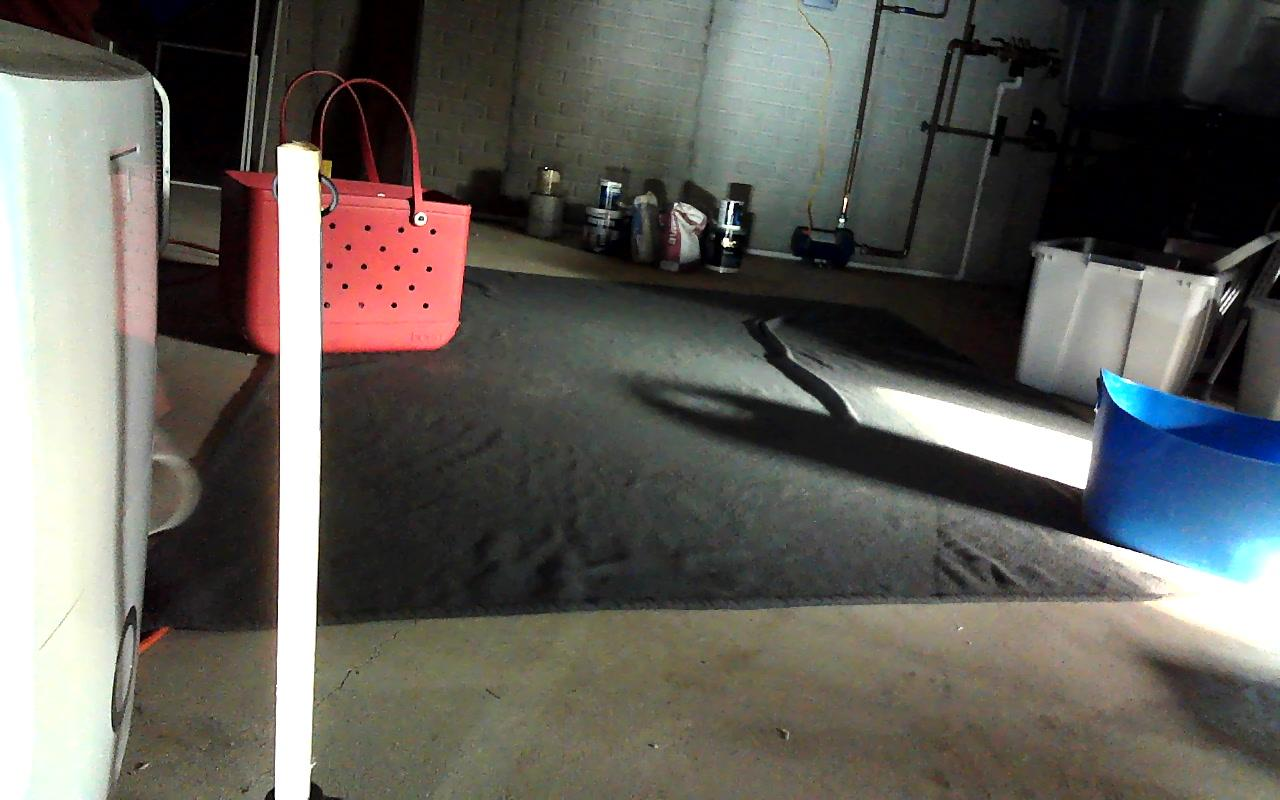coral: (146, 424, 201, 539)
